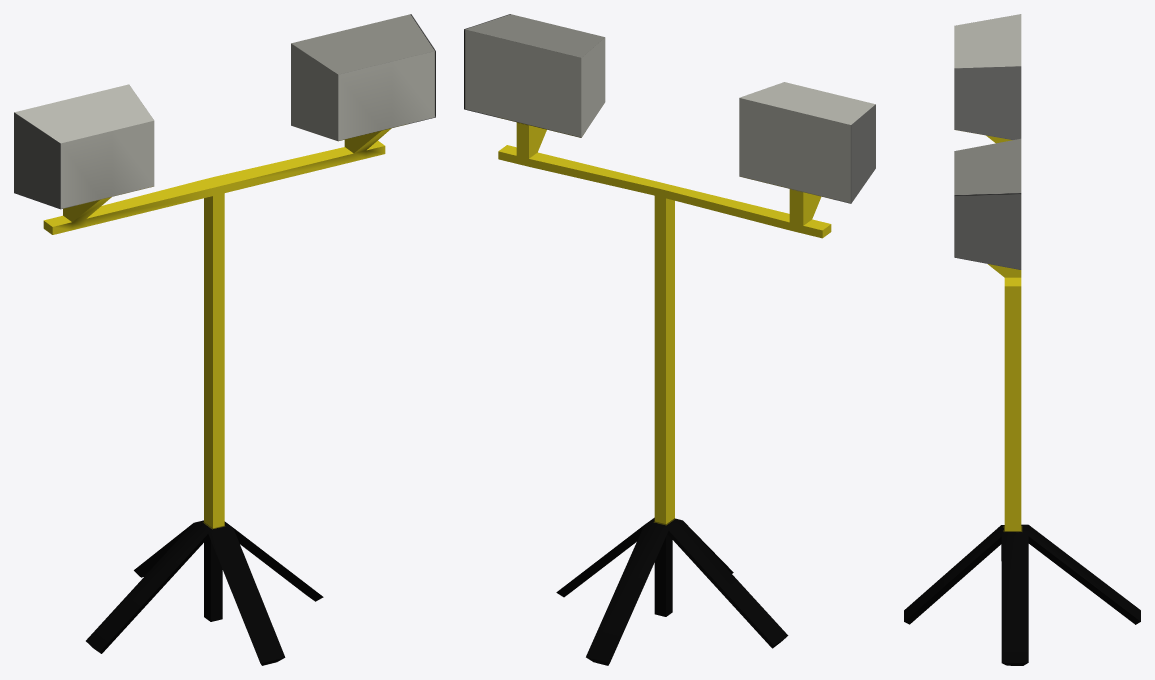
Rendered from Portable_Light 1.fbx.
3 views of the same model, side by side, from view 1: azimuth 30°, elevation 25°; view 2: azimuth 150°, elevation 25°; view 3: azimuth 270°, elevation 25° (orthographic). The views are drawn at different scales.
Visible parts, largest first — view 1: pCube1; view 2: pCube1; view 3: pCube1.
Boxes of the visible parts, left/top/right/bottom form: pCube1: left=14, top=14, right=435, bottom=665; pCube1: left=464, top=14, right=875, bottom=665; pCube1: left=904, top=14, right=1140, bottom=665.
Size of the model in its own units: 7.23 by 9.69 by 4.
Materials: 1 (1 with a texture image).
